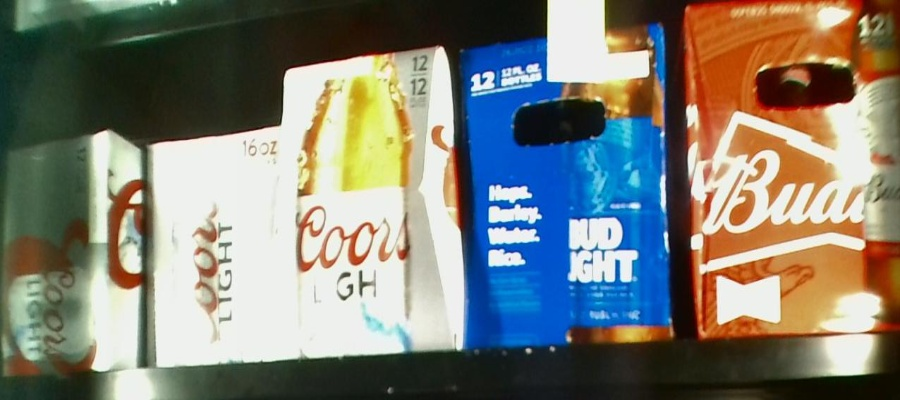bottle: (682, 10, 900, 332), (466, 42, 676, 348), (283, 55, 463, 359), (145, 135, 296, 361), (1, 139, 146, 371)
